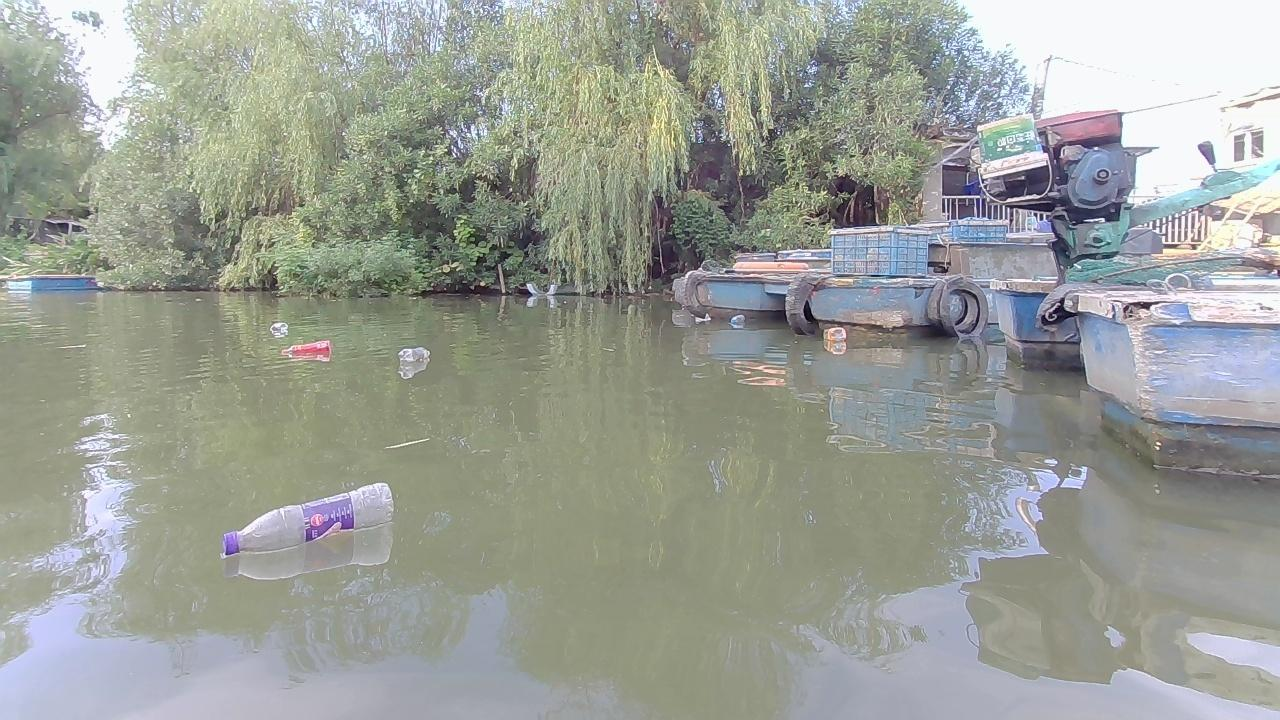bottle: (218, 477, 396, 558), (278, 339, 330, 360), (816, 324, 846, 352), (398, 345, 430, 366), (267, 316, 289, 335), (732, 312, 746, 331)
